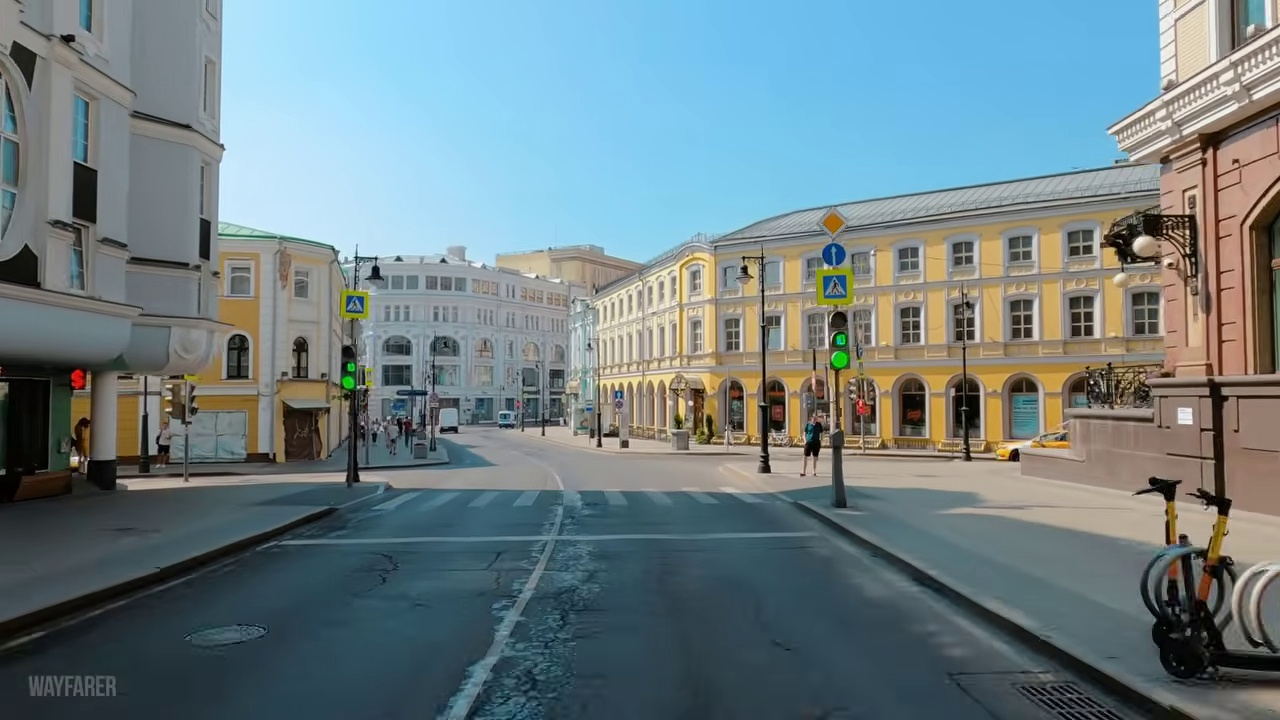apagada: (728, 266, 757, 289)
